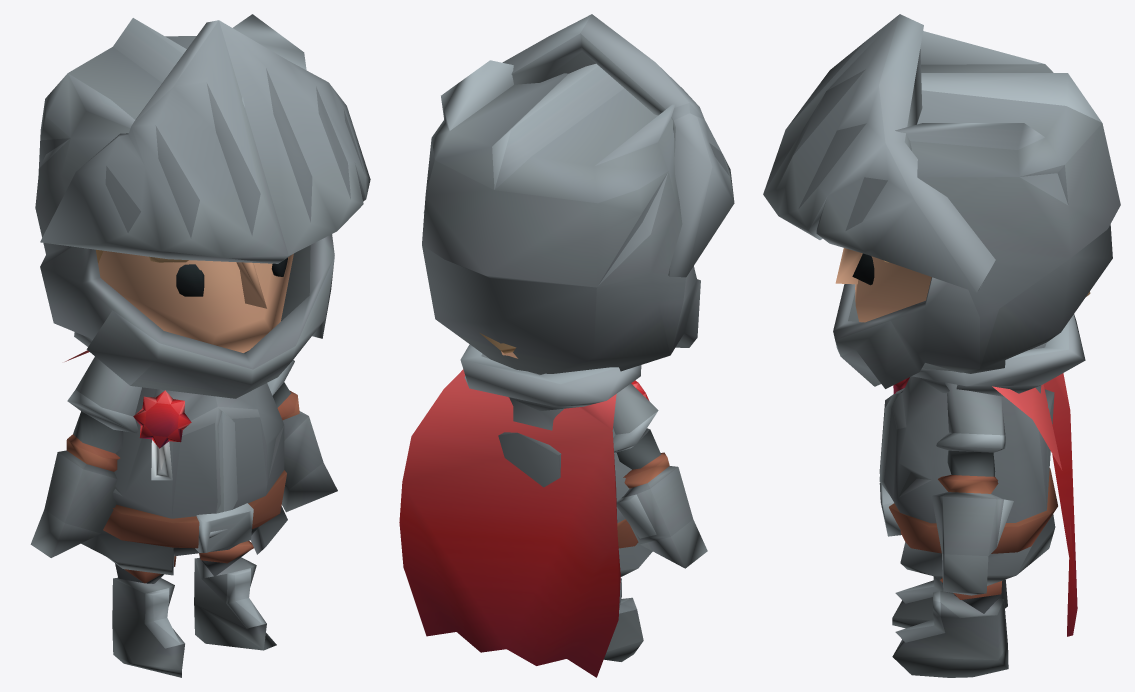
Rendered from soldier-1.glb.
3 views of the same model, side by side, from view 1: azimuth 30°, elevation 25°; view 2: azimuth 150°, elevation 25°; view 3: azimuth 270°, elevation 25° (orthographic). The views are drawn at different scales.
Parts seen in each view (by area): view 1: soldier:1; view 2: soldier:1; view 3: soldier:1.
Boxes of the visible parts, left/top/right/bottom form: soldier:1: left=30, top=14, right=370, bottom=677; soldier:1: left=399, top=14, right=734, bottom=677; soldier:1: left=763, top=14, right=1120, bottom=677.
Size of the model in its own units: 0.605 by 1.3 by 0.6685.
1 material, 1 textured.
